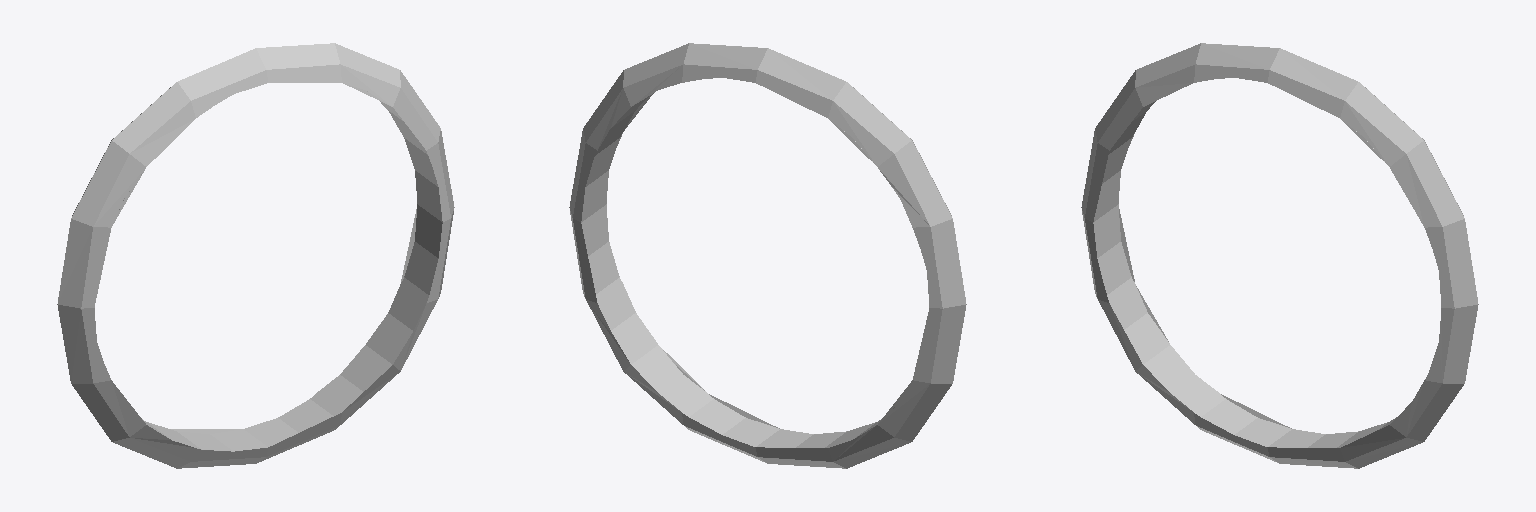
The model's file is tornade5.obj.
3 views of the same model, side by side, from view 1: azimuth 30°, elevation 25°; view 2: azimuth 150°, elevation 25°; view 3: azimuth 330°, elevation 25° (orthographic).
Visible parts, largest first — view 1: 立方体.001; view 2: 立方体.001; view 3: 立方体.001.
Boxes of the visible parts, x1=… form: 立方体.001: x1=57, y1=43, x2=454, y2=468; 立方体.001: x1=569, y1=43, x2=966, y2=468; 立方体.001: x1=1081, y1=43, x2=1478, y2=468.
Bounding box in the file's own units: 4.04 × 4.04 × 0.4829.